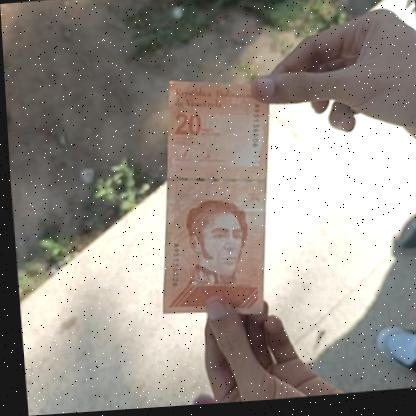twenty-front-vef: (144, 72, 281, 325)
